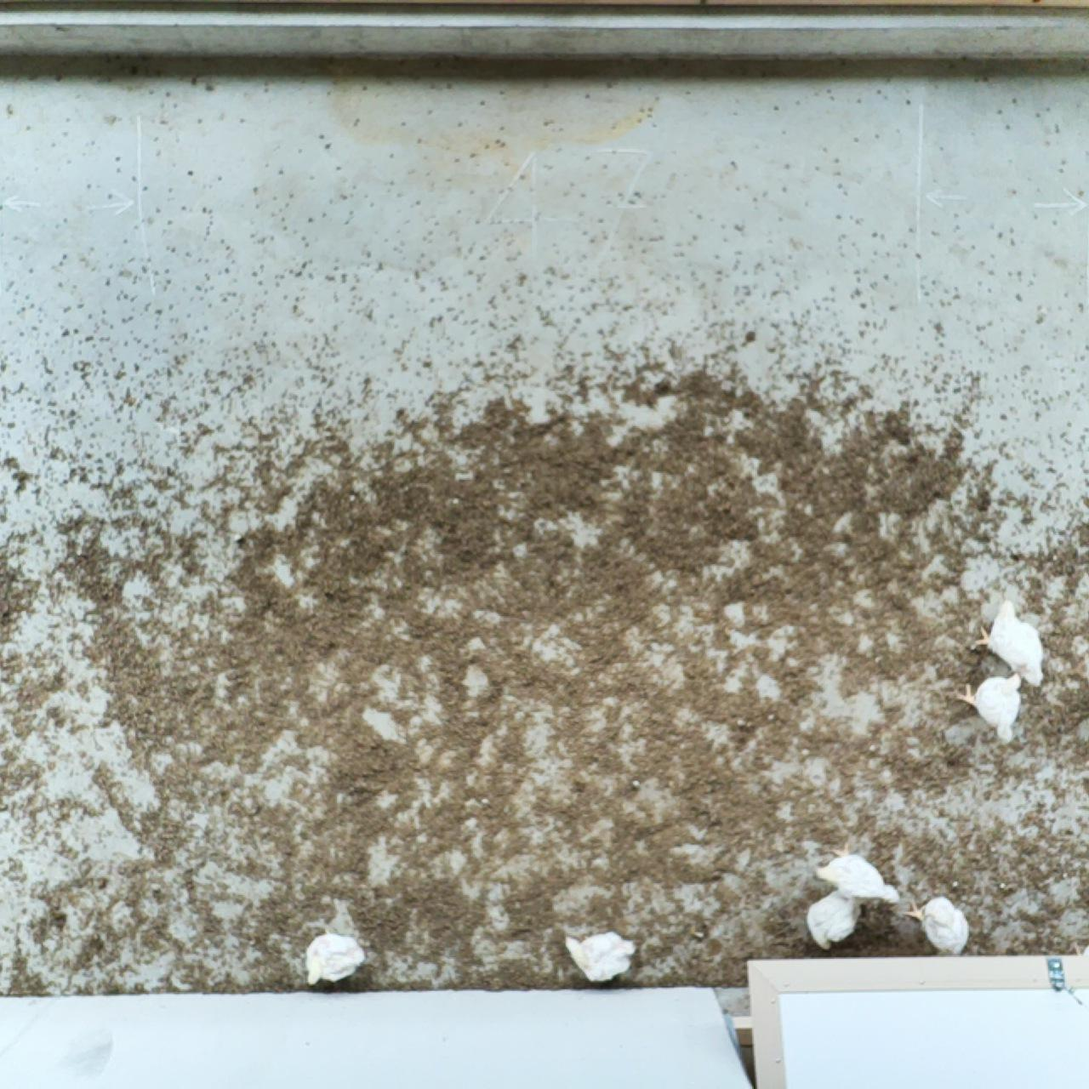chicken: (971, 597, 1047, 691), (812, 841, 904, 909), (954, 669, 1028, 745), (905, 891, 972, 960), (561, 926, 637, 986), (806, 880, 866, 951), (301, 929, 369, 988)
